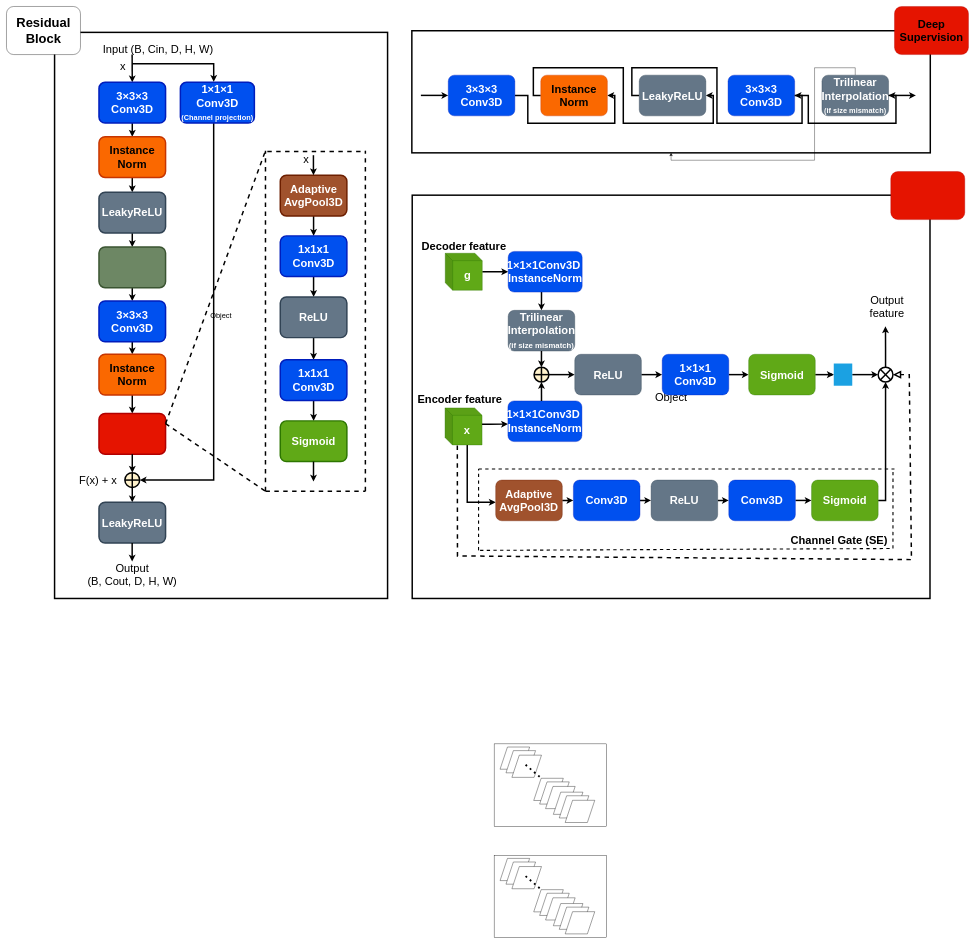
Image size: 975x944. Some labels were removed from this diagram. Here are the shapes that lost their labels. From the top down, the centre of each, then its label:
the point at 927,195: Improved Attention Gate 3D
the point at 132,267: Dropout3D
the point at 843,374: ψ S
the point at 132,434: SE Block
